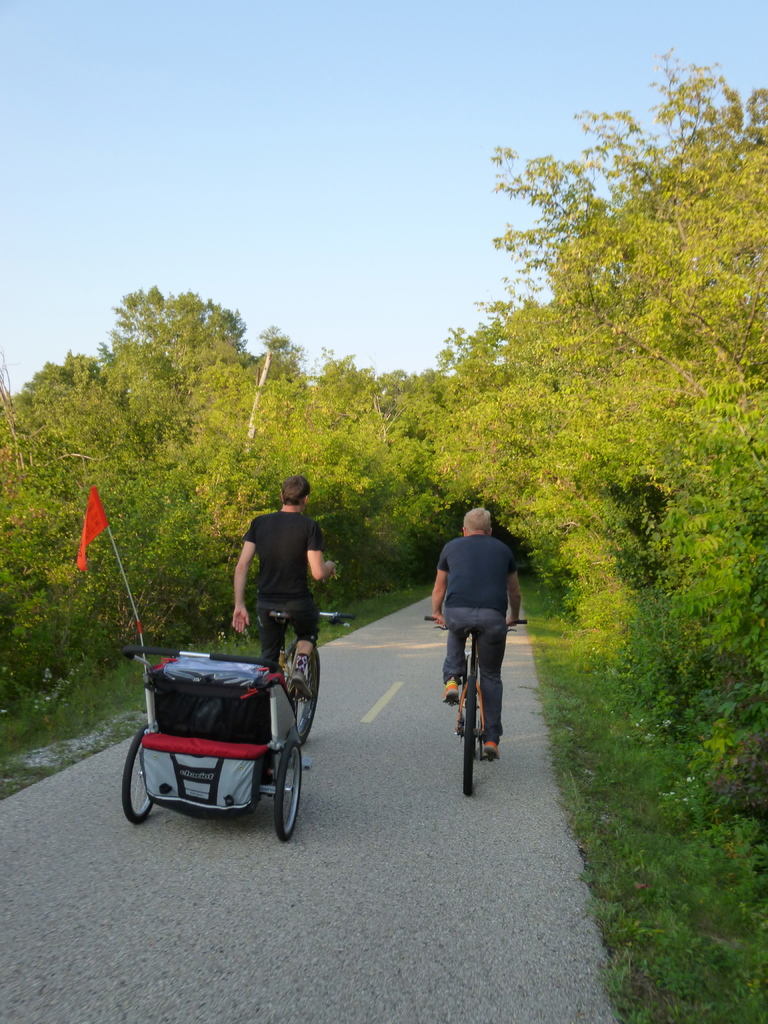Bike_away: (125, 601, 352, 842), (420, 608, 532, 796)
